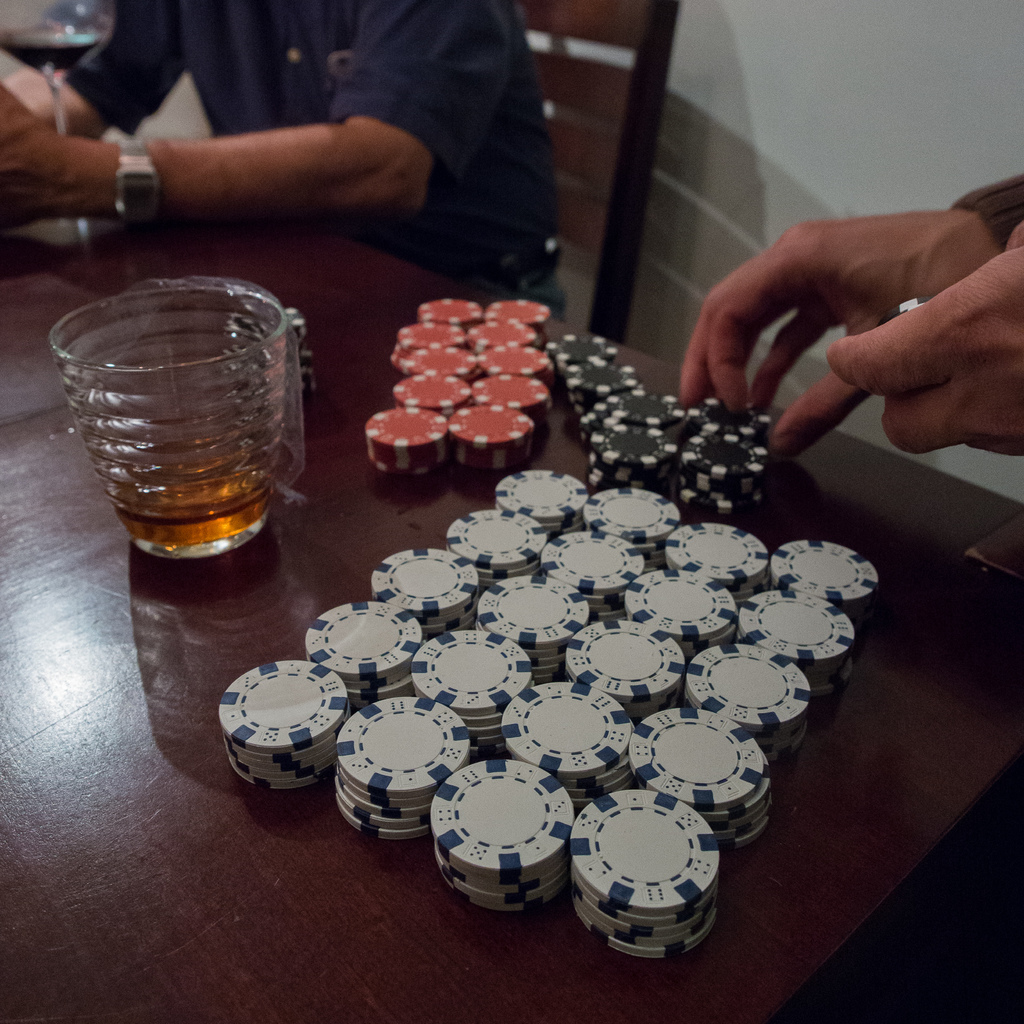Human_hand: (824, 220, 1023, 456), (0, 83, 60, 234)
